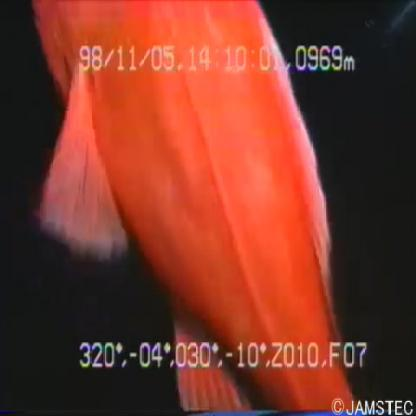Bio: (23, 1, 383, 416)
